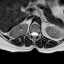CCS_normal: (33, 29, 35, 39)
LFS_normal: (37, 30, 39, 38)
LLS_normal: (35, 30, 38, 38)
RFS_normal: (29, 30, 31, 38)
RLS_normal: (31, 30, 33, 38)
